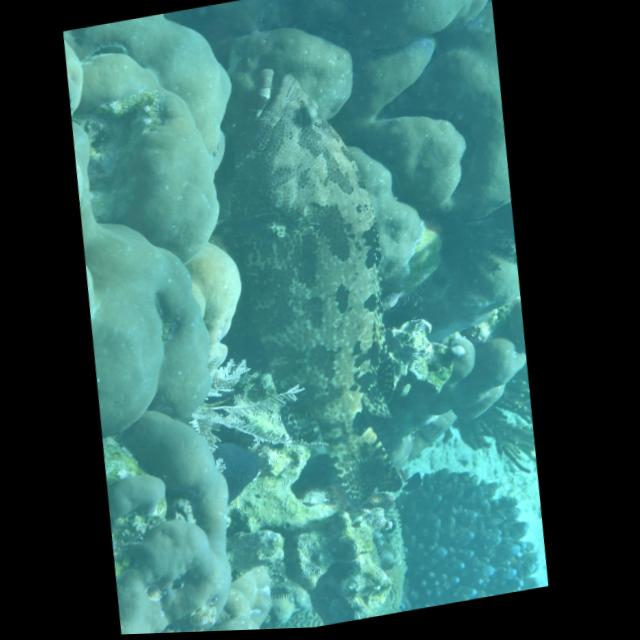Groupers: (191, 47, 427, 524)
